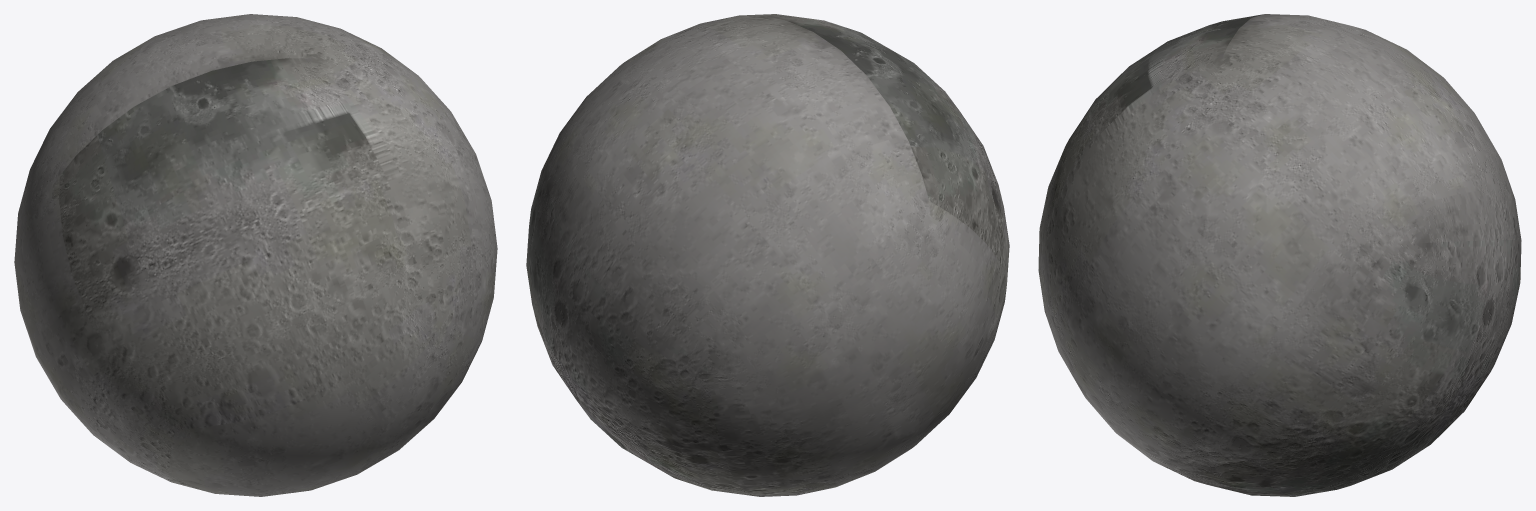
Rendered from moon.glb.
The picture shows the model from 3 angles, left to right: view 1: azimuth 30°, elevation 25°; view 2: azimuth 150°, elevation 25°; view 3: azimuth 270°, elevation 25°; orthographic projection.
Visible parts, largest first — view 1: Moon_Cube001; view 2: Moon_Cube001; view 3: Moon_Cube001.
Part boxes in pixels (x1,y1,x2,y2): Moon_Cube001: [14, 14, 497, 496]; Moon_Cube001: [526, 14, 1009, 496]; Moon_Cube001: [1038, 14, 1521, 496].
Size of the model in its own units: 1.07 by 1.07 by 1.07.
Materials: 1 (1 with a texture image).
